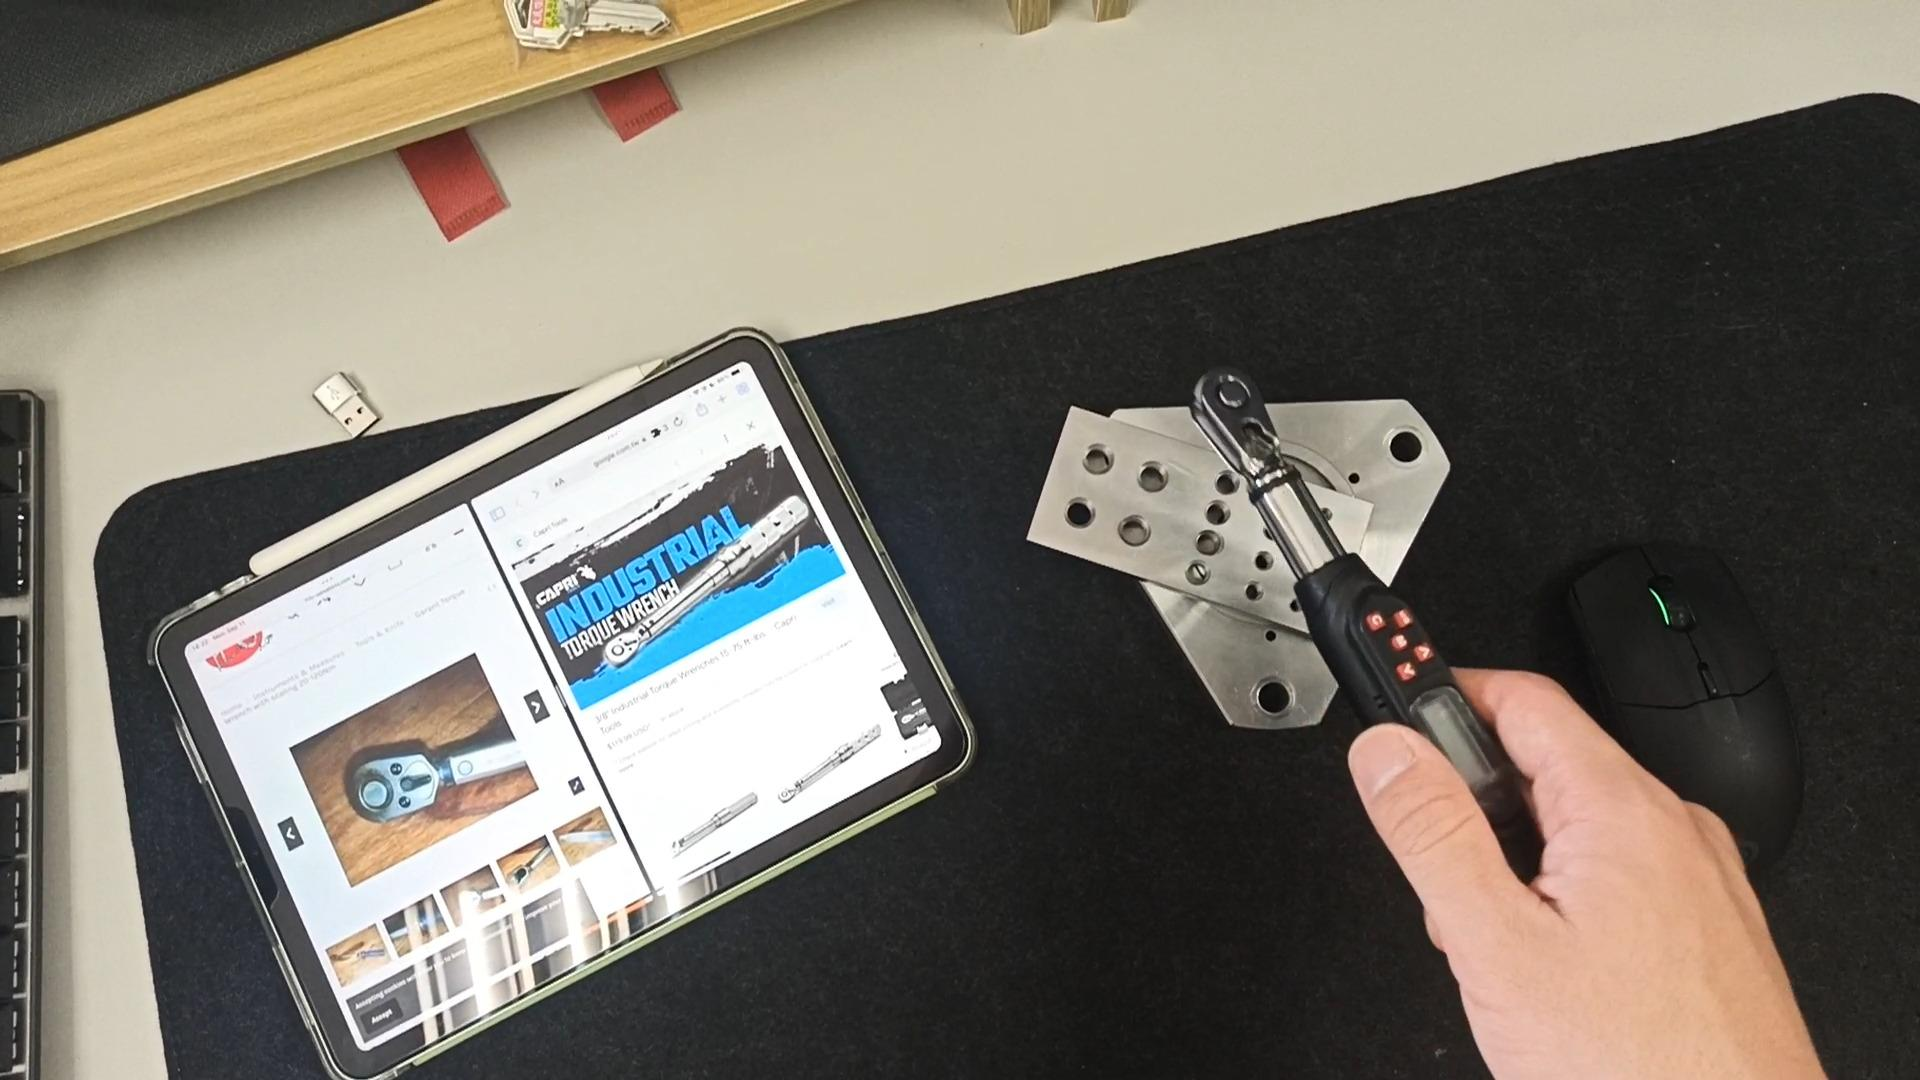Tool: (1196, 365, 1283, 488), (348, 757, 435, 820), (604, 632, 641, 666)
hole: (1225, 669, 1311, 725), (1367, 423, 1432, 469), (1072, 443, 1127, 480), (1055, 495, 1110, 531), (1127, 459, 1184, 493), (1108, 513, 1155, 546), (1205, 464, 1250, 493), (1187, 524, 1233, 550), (1199, 497, 1241, 524), (1179, 560, 1221, 585), (1244, 551, 1280, 574), (1236, 578, 1270, 597), (1287, 597, 1305, 617), (1317, 502, 1335, 524)
